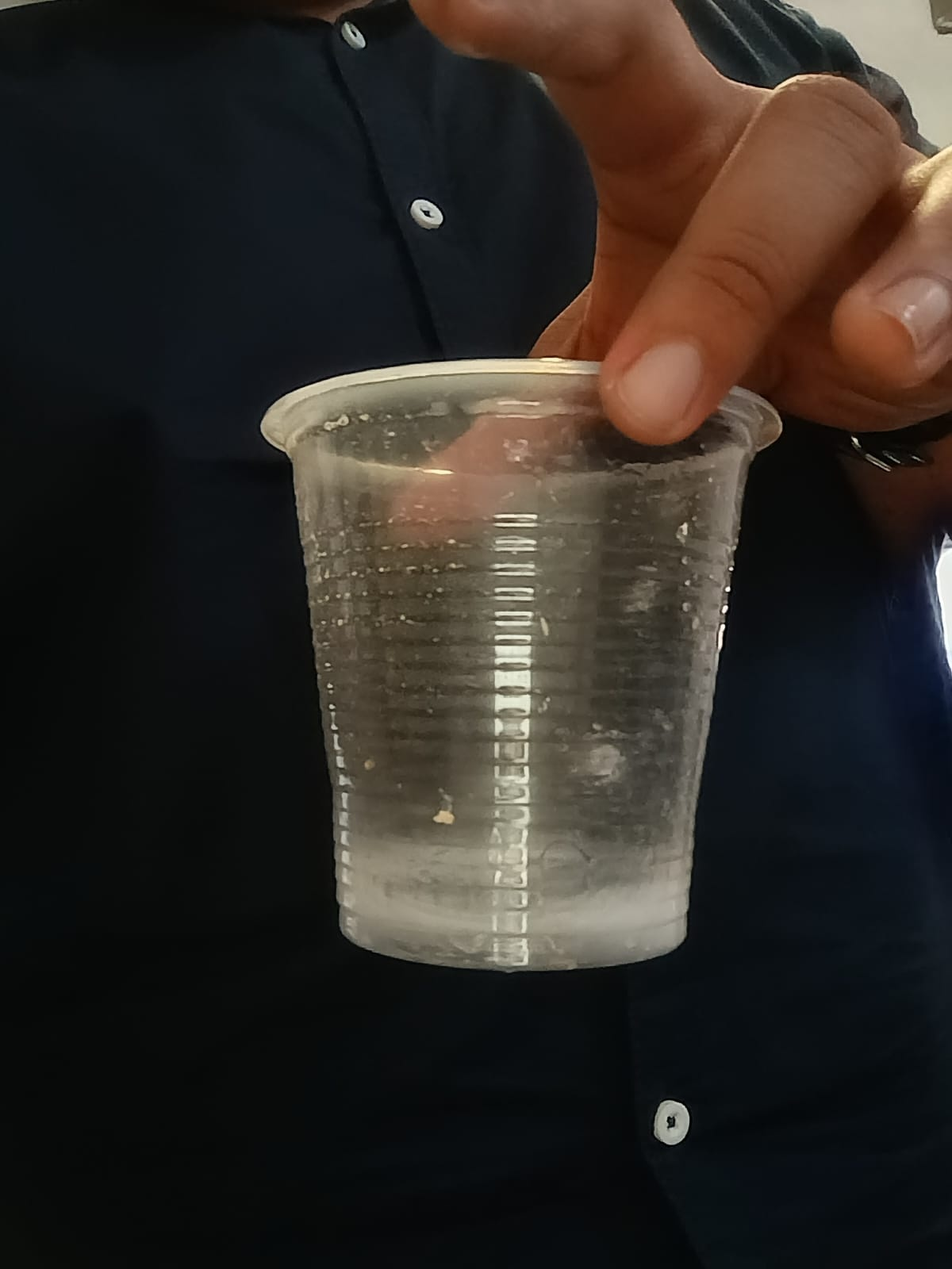Plastico: (262, 358, 786, 970)
